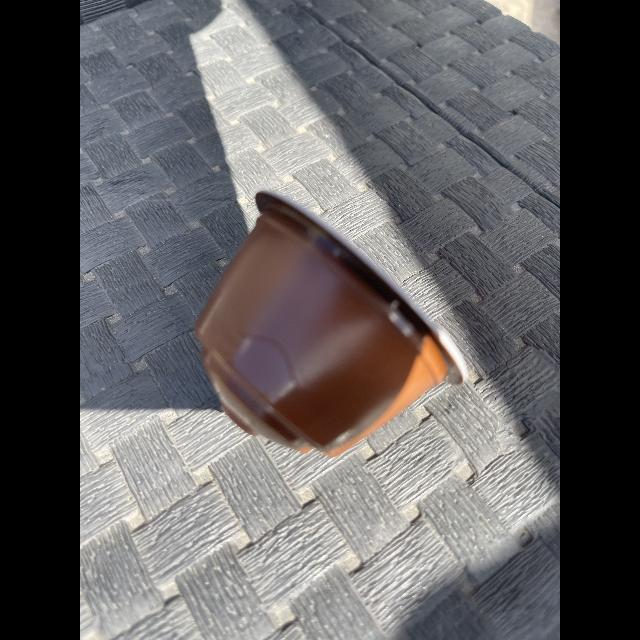intact_capsule: (178, 173, 486, 472)
